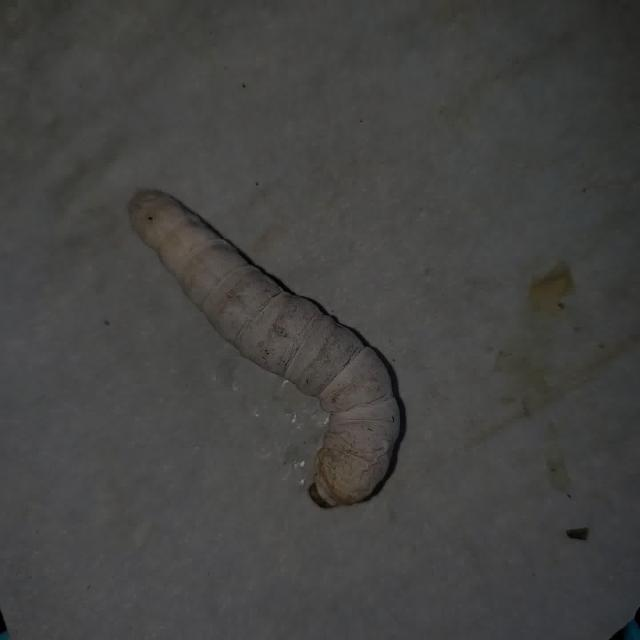Grasserie: (117, 168, 421, 526)
